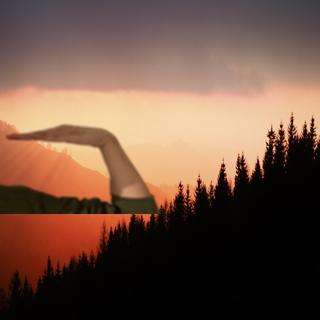WAIT: (5, 117, 114, 150)
